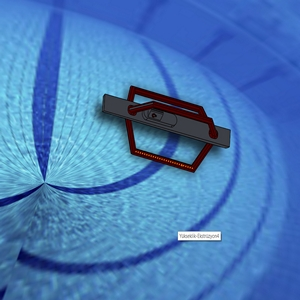submarine: (85, 55, 238, 188)
